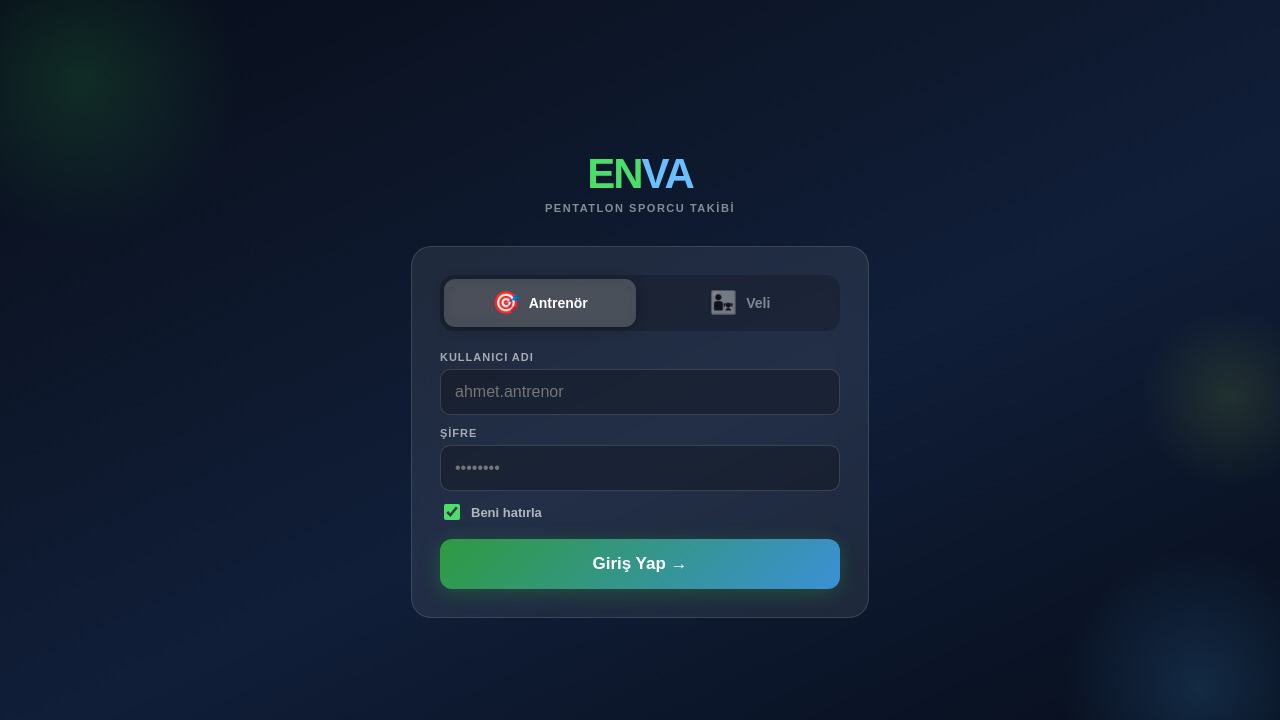
coach can login and sees coach name in header
This screenshot has width=1280, height=720.
Type "arap.metin" into the field with placeholder "ahmet.antrenor".
click(640, 392); type("arap.metin")  # box [440,369,840,415]
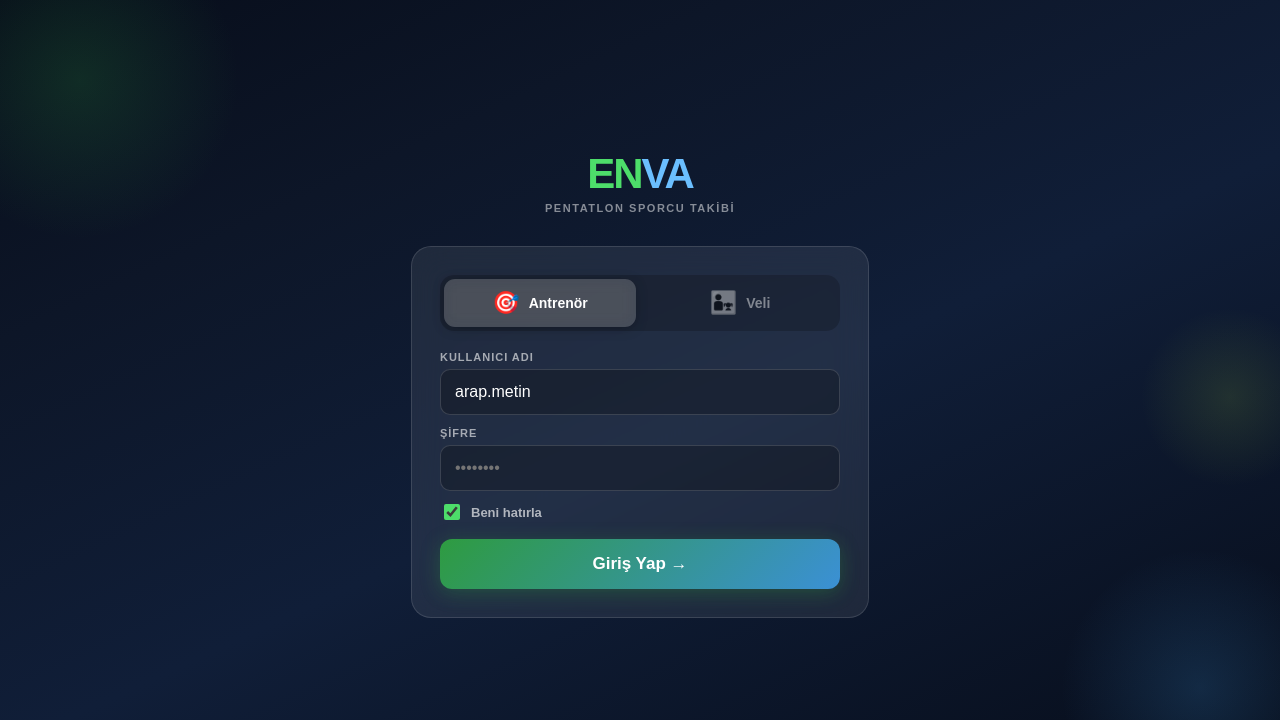
Type "Enva@2024" into the password field with placeholder "••••••••".
click(640, 468); type("Enva@2024")  # box [440,445,840,491]
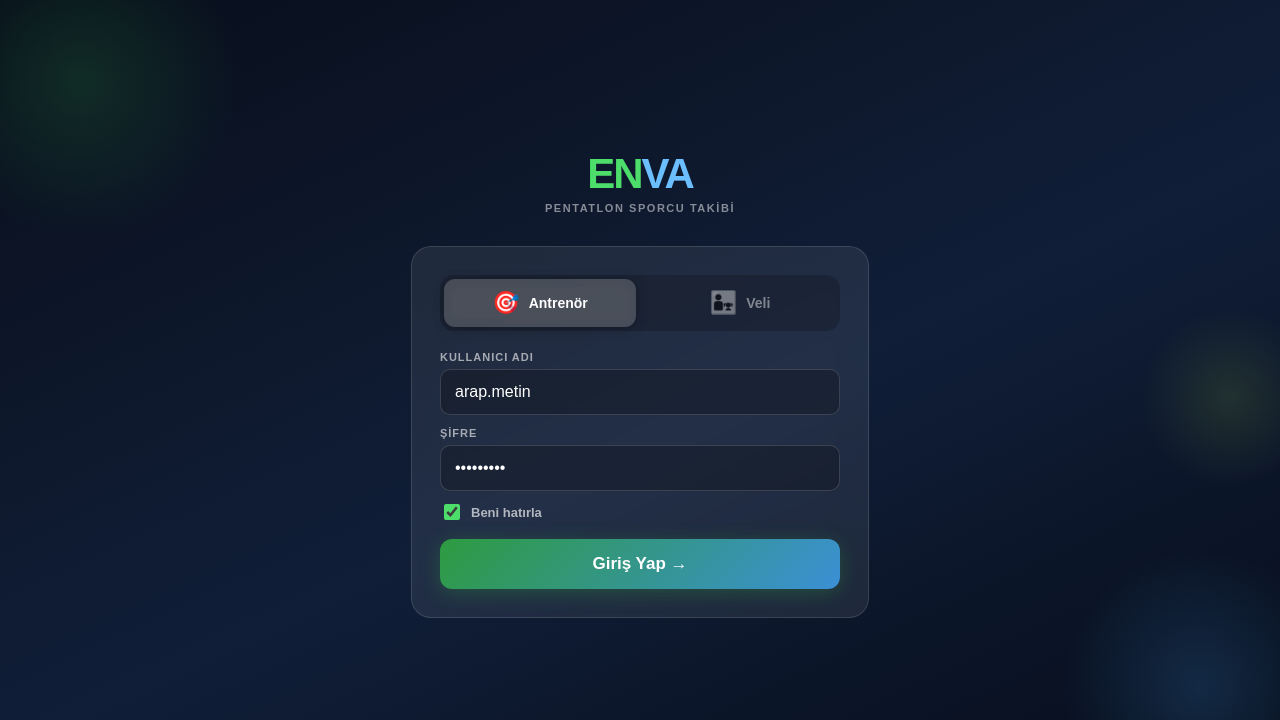
Click the button "Giriş Yap →".
click(640, 564)  # box [440,539,840,589]
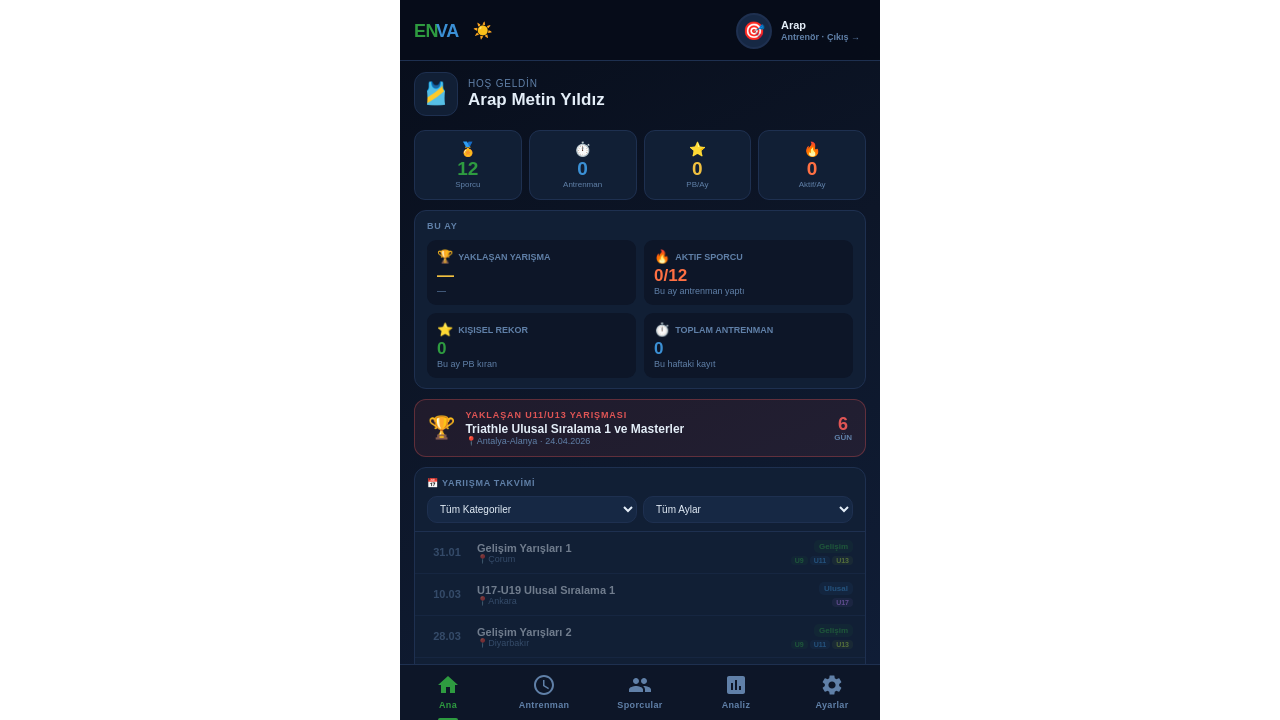
expect the heading "Arap Metin Yıldız" is shown: met, box [468,90,605,110]
